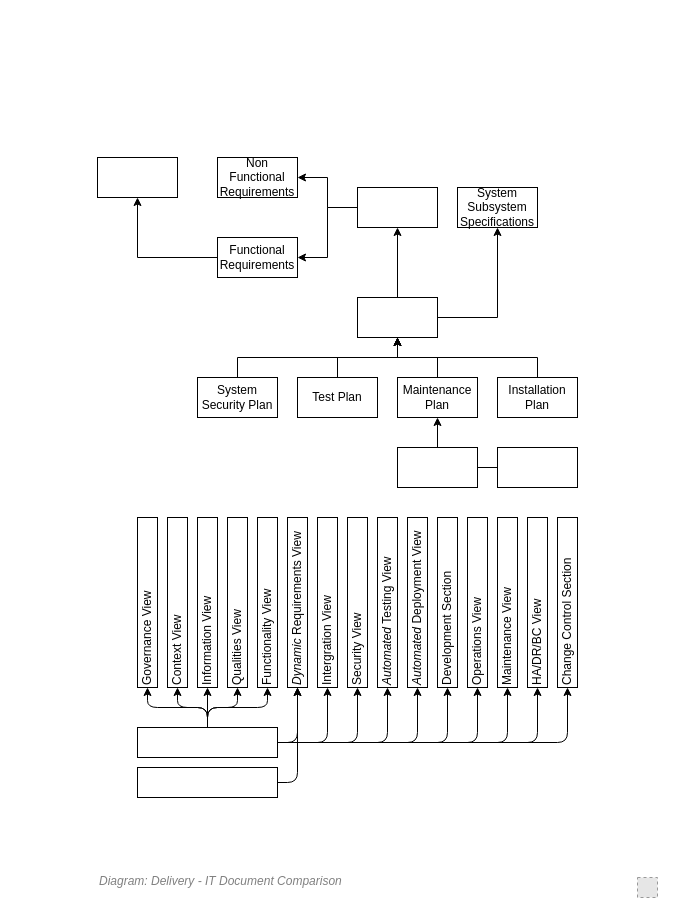
Image size: 675x915. Some labels were removed from this diagram. Grey dashed boxes stand in for pictures. The centre of each missing label's shape, as x and y in pixels:
"High Level Requirements Document" belongs at [137,177].
"Project Backlog & Issue Management" belongs at [207,782].
"Project Wiki Knowledge Management" belongs at [207,742].
"System Design Documents" belongs at [397,317].
"System Requirements" belongs at [397,207].
"Transition Plan" belongs at [537,467].
"Verification and Validation Plan" belongs at [437,467].
